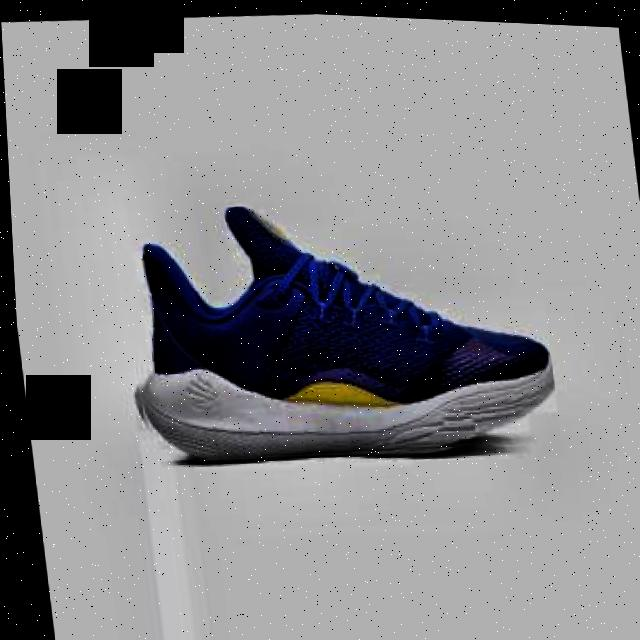shoe: (108, 179, 559, 475)
